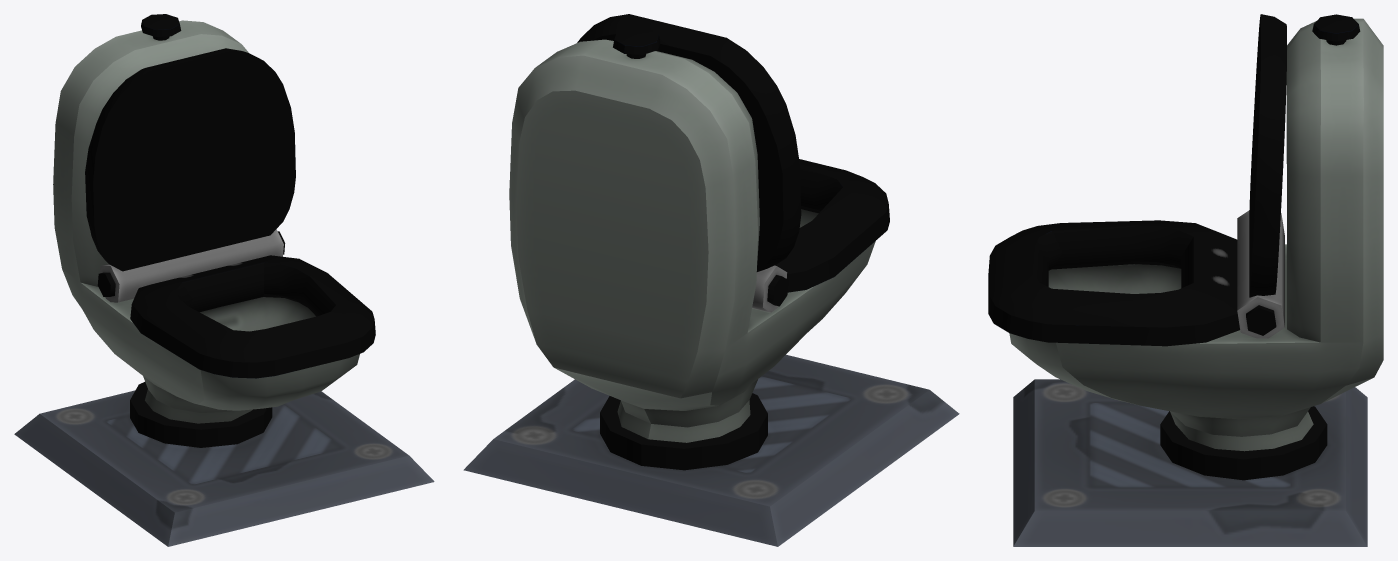
The model's file is obj_interactive_toilet.fbx.
3 views of the same model, side by side, from view 1: azimuth 30°, elevation 25°; view 2: azimuth 150°, elevation 25°; view 3: azimuth 270°, elevation 25° (orthographic). The views are drawn at different scales.
Parts seen in each view (by area): view 1: obj_interactive_toilet_lod0; view 2: obj_interactive_toilet_lod0; view 3: obj_interactive_toilet_lod0.
Part boxes in pixels (x1,y1,x2,y2): obj_interactive_toilet_lod0: [14, 14, 434, 546]; obj_interactive_toilet_lod0: [463, 14, 959, 546]; obj_interactive_toilet_lod0: [988, 14, 1383, 546].
Size of the model in its own units: 2.65 by 3.71 by 2.95.
Materials: 1 (1 with a texture image).
